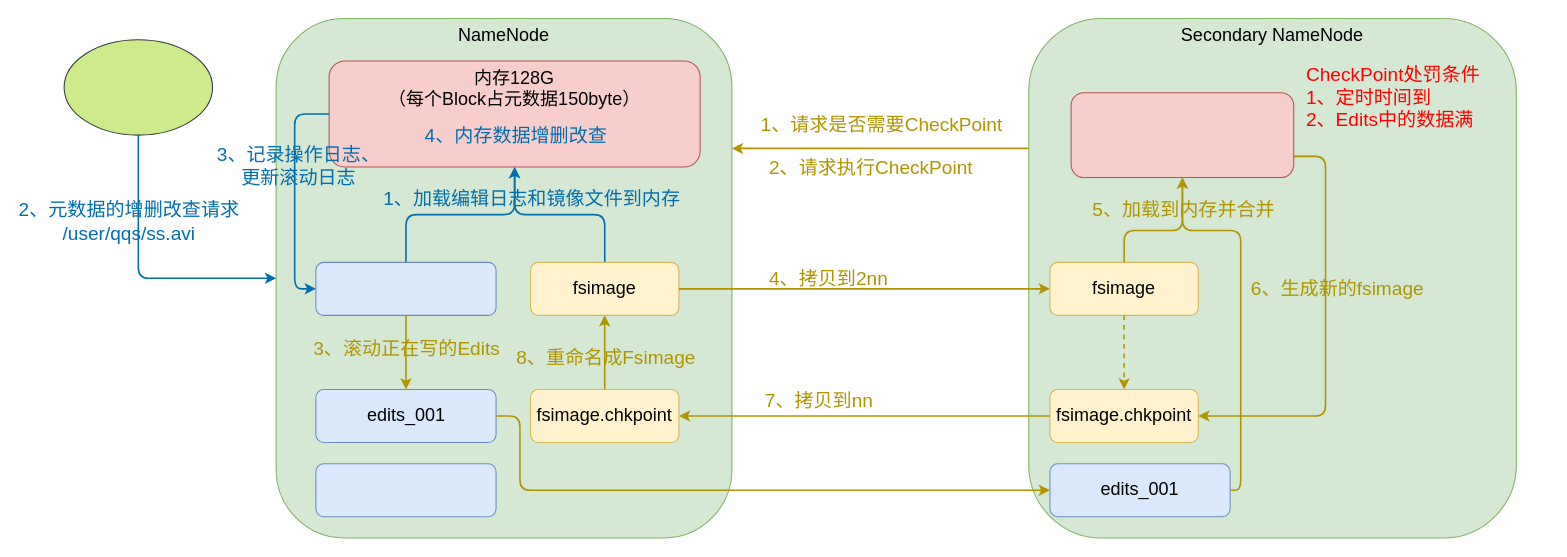
This 1567x557 diagram has some shape labels left out. Here are the shapes that lost their labels. From the top down, the centre of each, then its label:
(x=138, y=87): Client
(x=1182, y=135): 内存
(x=405, y=288): edits_inprogress_001
(x=405, y=490): edits_inprogress_002
